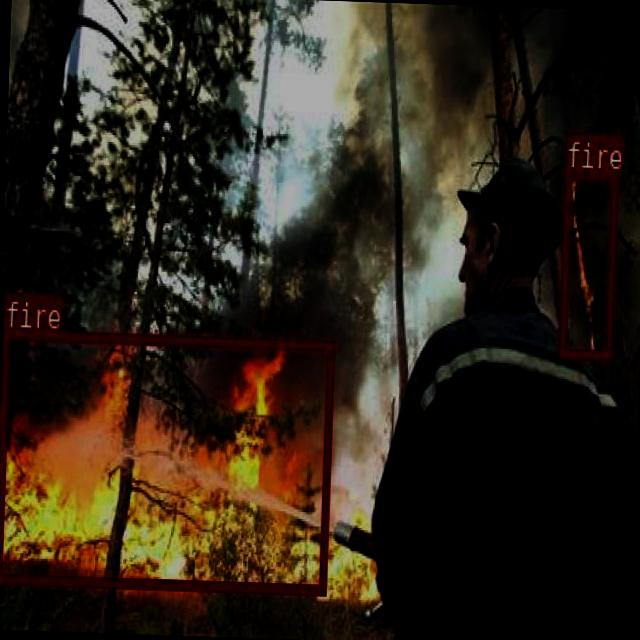fire: (0, 327, 332, 592), (556, 166, 618, 360)
